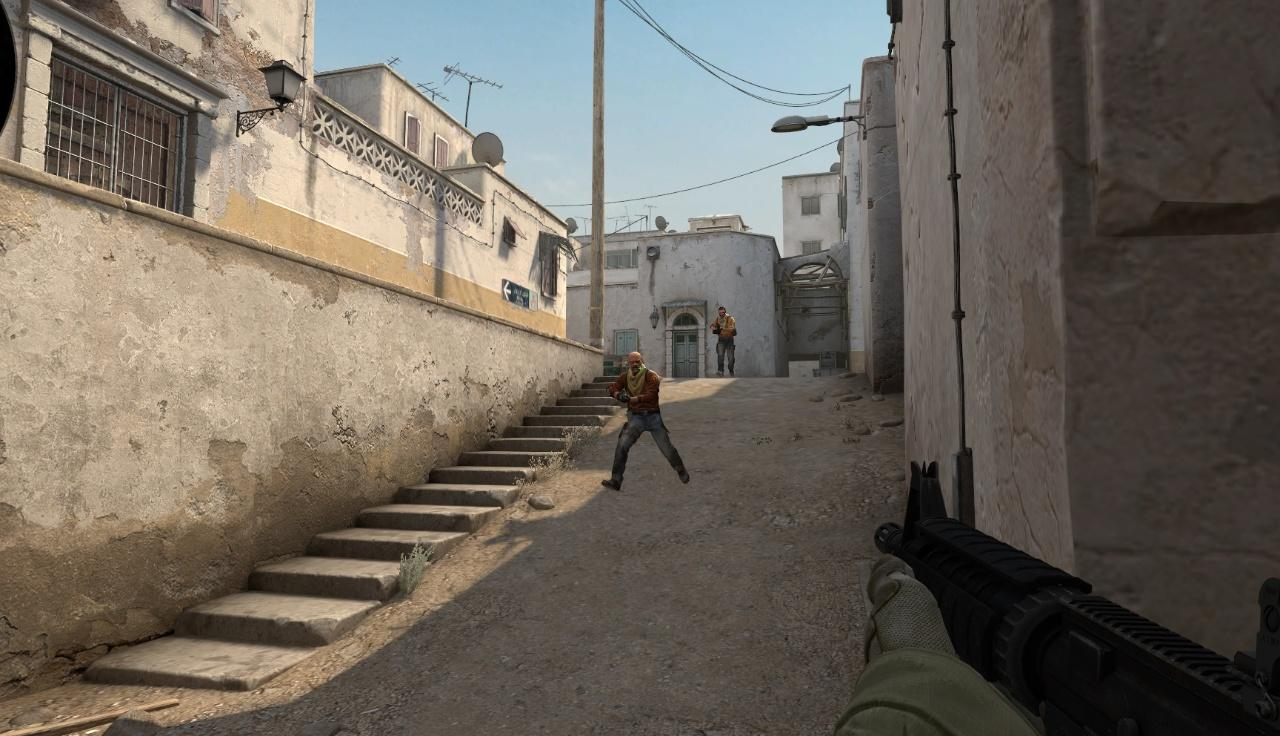rifle: (835, 459, 1280, 736)
tt: (604, 352, 673, 489), (710, 306, 737, 378)
tthead: (628, 352, 643, 373), (718, 306, 727, 320)
